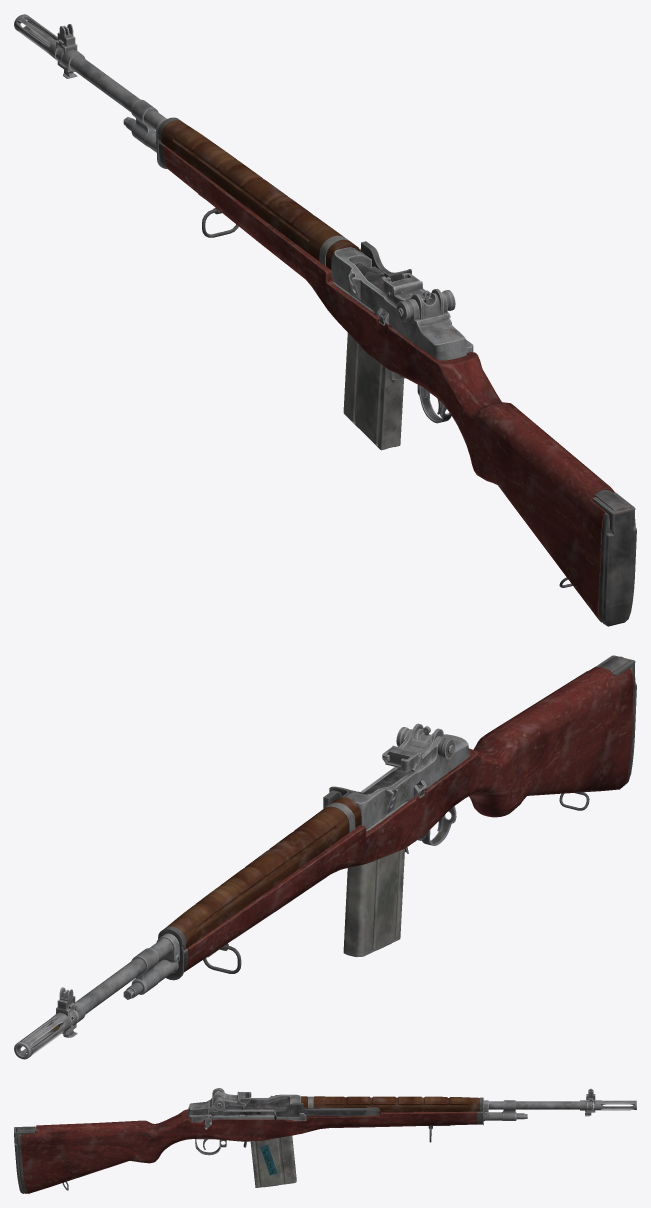
File: zz_dmr.glb
3 renders of one model, top to bottom at view 1: azimuth 30°, elevation 25°; view 2: azimuth 150°, elevation 25°; view 3: azimuth 270°, elevation 25°, orthographic. The views are drawn at different scales.
Visible parts, largest first — view 1: zz_dmr; view 2: zz_dmr; view 3: zz_dmr.
Boxes of the visible parts, x1,y1,x2,y2 form: zz_dmr: [14, 14, 636, 626]; zz_dmr: [14, 655, 636, 1059]; zz_dmr: [14, 1088, 636, 1193].
Bounding box in the file's own units: 0.0721 × 0.2024 × 1.12.
Materials: 2 (2 with a texture image).
